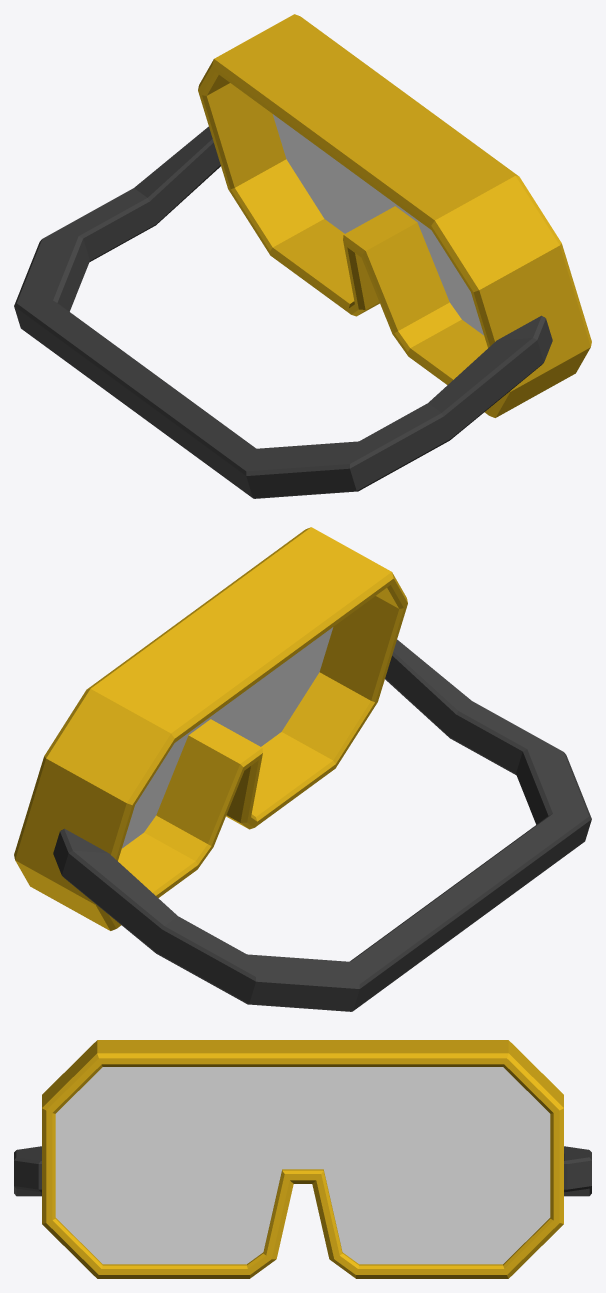
File: Goggles.fbx
The picture shows the model from 3 angles, top to bottom: view 1: azimuth 30°, elevation 25°; view 2: azimuth 150°, elevation 25°; view 3: azimuth 270°, elevation 25°; orthographic projection. The views are drawn at different scales.
Visible parts, largest first — view 1: Goggles; view 2: Goggles; view 3: Goggles.
Part boxes in pixels (x1,y1,x2,y2): Goggles: (14,14,591,498); Goggles: (14,527,591,1011); Goggles: (14,1040,591,1278).
Size of the model in its own units: 37.52 by 27.07 by 59.63.
